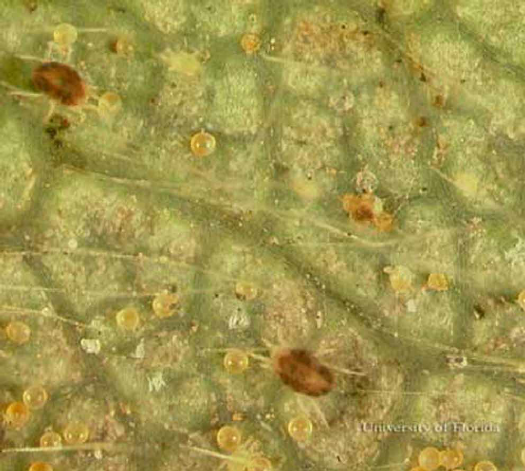Mites: (243, 324, 361, 422)
